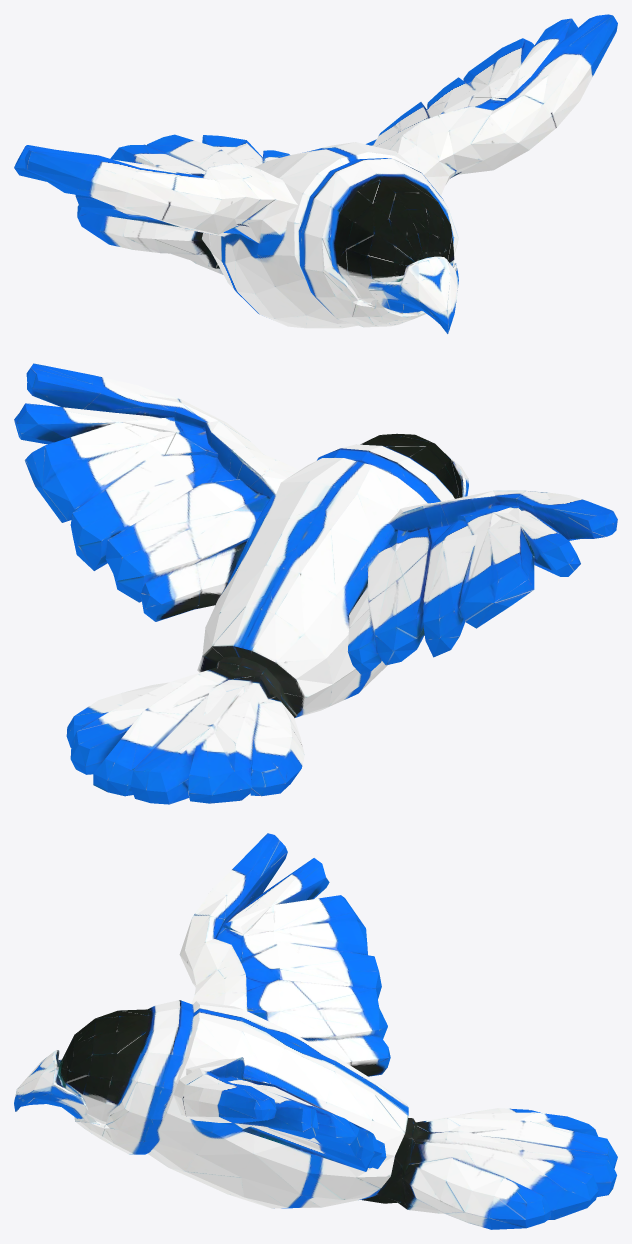
The model's file is dove4.glb.
3 views of the same model, one above another, from view 1: azimuth 30°, elevation 25°; view 2: azimuth 150°, elevation 25°; view 3: azimuth 270°, elevation 25° (orthographic). The views are drawn at different scales.
Size of the model in its own units: 2 by 0.8238 by 1.89.
1 material, 1 textured.
